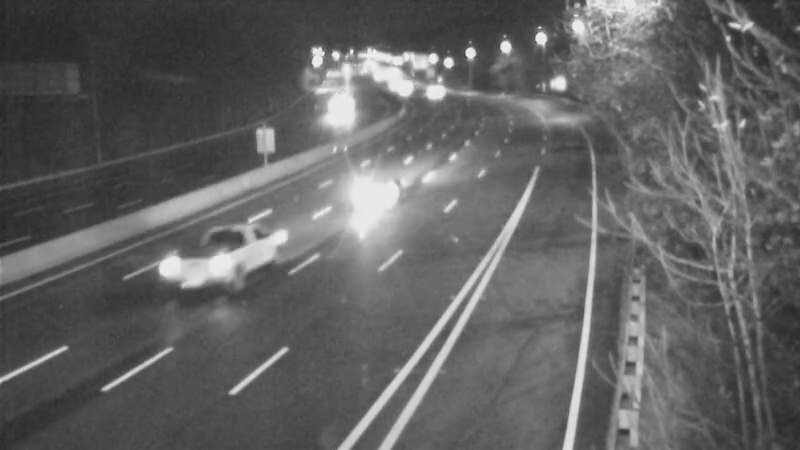vehicle: (347, 159, 427, 239), (168, 231, 248, 311), (376, 59, 426, 109), (414, 69, 464, 119), (306, 85, 356, 135)
